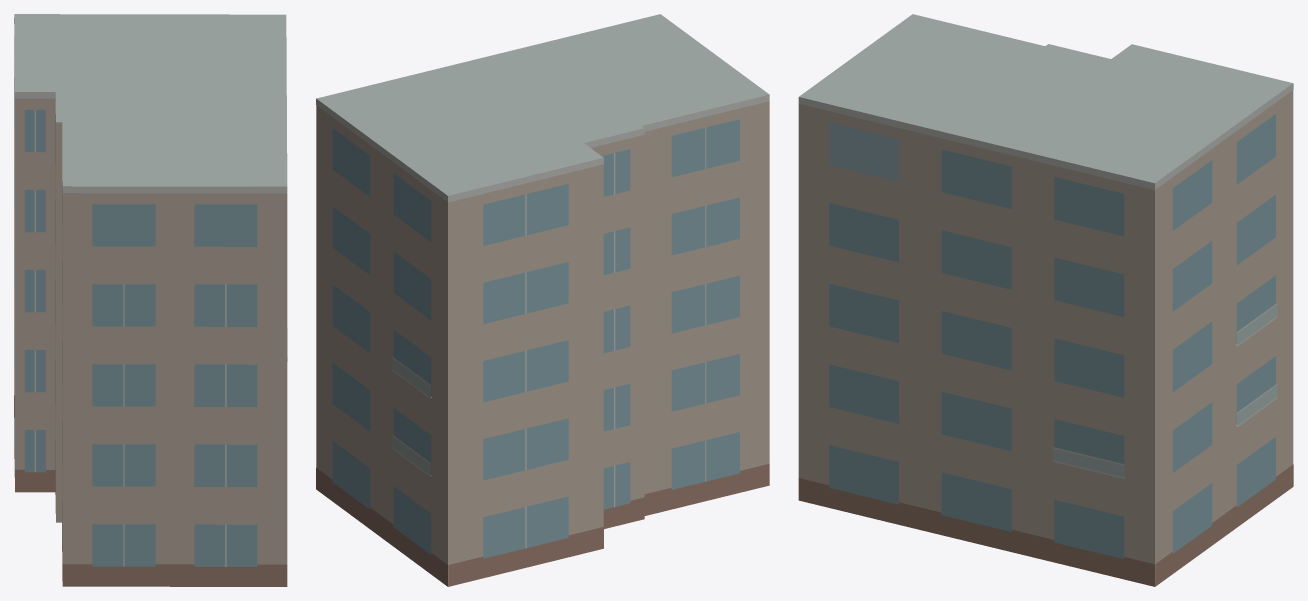
The model's file is survey-upis-32656376.glb.
3 views of the same model, side by side, from view 1: azimuth 30°, elevation 25°; view 2: azimuth 150°, elevation 25°; view 3: azimuth 270°, elevation 25° (orthographic). The views are drawn at different scales.
Parts seen in each view (by area): view 1: survey-upis-32656376.tmp; view 2: survey-upis-32656376.tmp; view 3: survey-upis-32656376.tmp.
Part boxes in pixels (bbox=[...]): survey-upis-32656376.tmp: bbox=[14, 14, 287, 586]; survey-upis-32656376.tmp: bbox=[316, 14, 769, 586]; survey-upis-32656376.tmp: bbox=[798, 14, 1293, 586].
Bounding box in the file's own units: 13.15 × 14.6 × 16.23.
